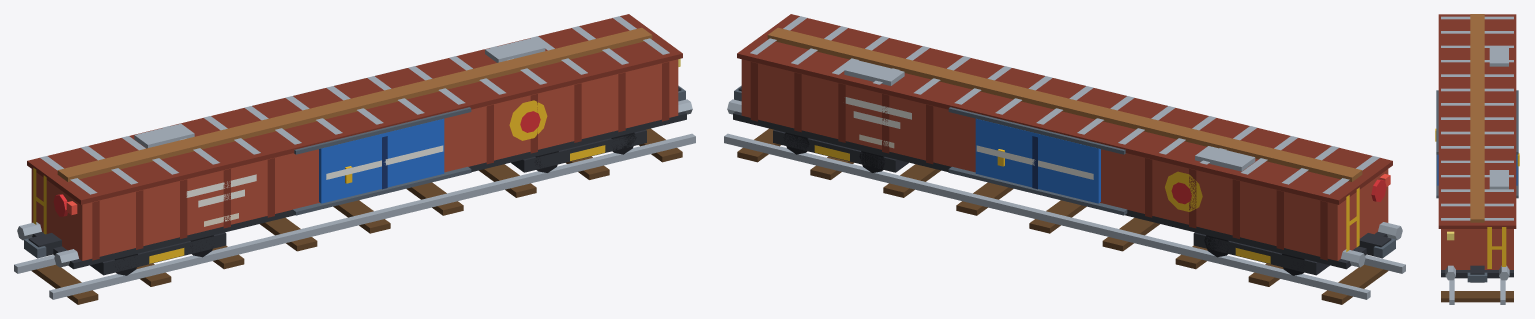
Rendered from train_wagon.glb.
3 views of the same model, side by side, from view 1: azimuth 30°, elevation 25°; view 2: azimuth 150°, elevation 25°; view 3: azimuth 270°, elevation 25° (orthographic). The views are drawn at different scales.
Parts seen in each view (by area): view 1: Body; view 2: Body; view 3: Body.
Part boxes in pixels (x1=…): Body: x1=14, y1=14, x2=695, y2=304; Body: x1=724, y1=14, x2=1405, y2=304; Body: x1=1435, y1=14, x2=1519, y2=304.
Size of the model in its own units: 2.22 by 0.36 by 0.354.
